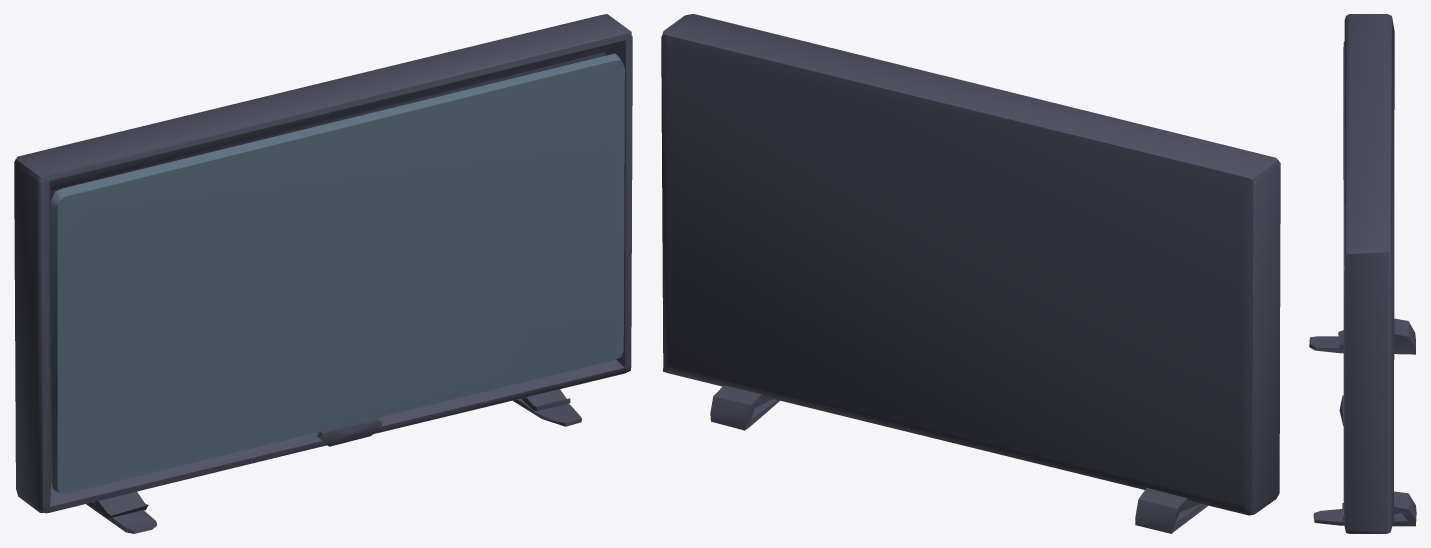
The model's file is small_television.glb.
3 renders of one model, left to right at view 1: azimuth 30°, elevation 25°; view 2: azimuth 150°, elevation 25°; view 3: azimuth 270°, elevation 25°, orthographic. The views are drawn at different scales.
Bounding box in the file's own units: 2.55 × 1.49 × 0.48.
